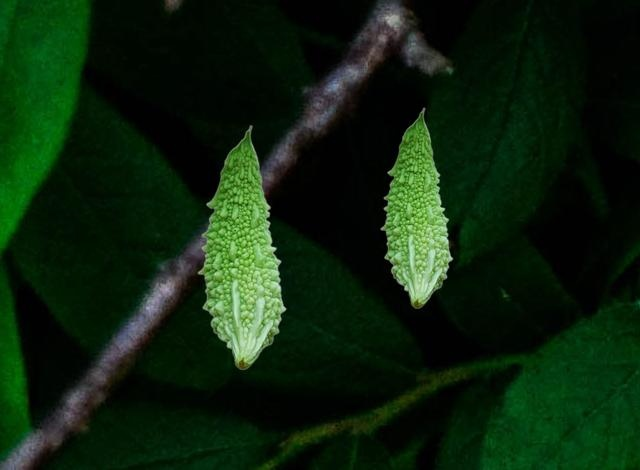ampalaya: (197, 124, 287, 372), (380, 107, 453, 310)
